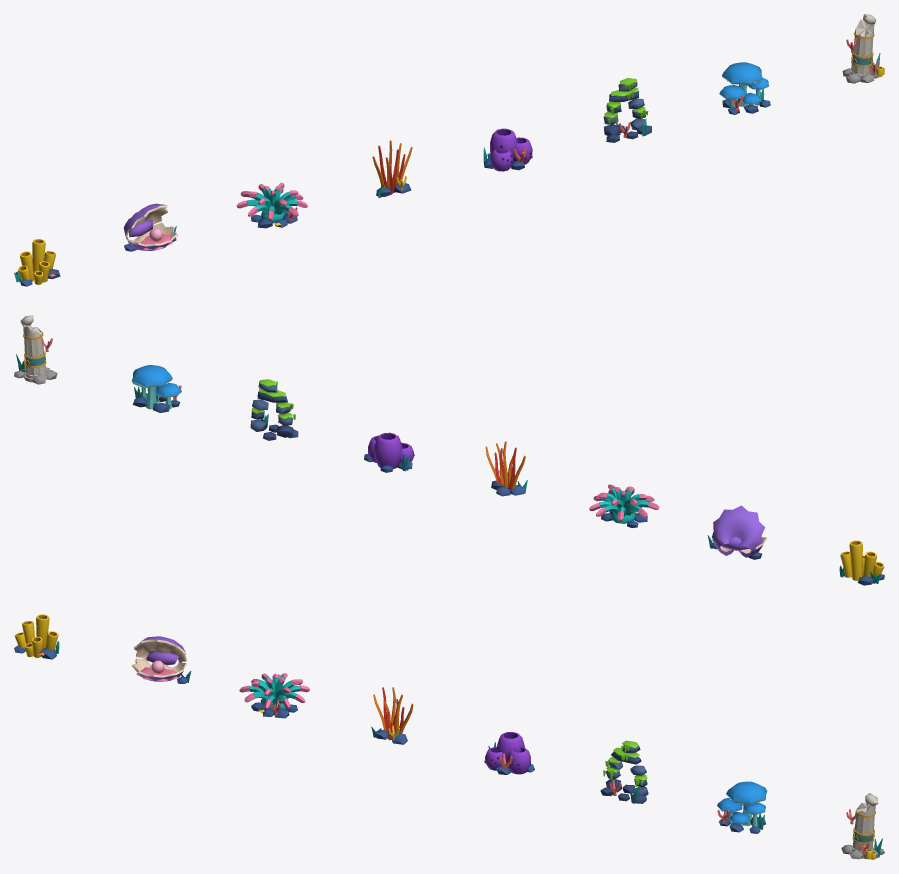
Rendered from MB_Kit_OpenSea_v1.fbx.
The picture shows the model from 3 angles, top to bottom: view 1: azimuth 30°, elevation 25°; view 2: azimuth 150°, elevation 25°; view 3: azimuth 330°, elevation 25°; orthographic projection.
Visible parts, largest first — view 1: Anemone, GlowShroom, MossRock, GiantClam, RuinColumn, BarrelSponge, TubeSponge, WhipCoral; view 2: GiantClam, Anemone, MossRock, GlowShroom, RuinColumn, BarrelSponge, TubeSponge, WhipCoral; view 3: GiantClam, GlowShroom, Anemone, MossRock, RuinColumn, BarrelSponge, TubeSponge, WhipCoral.
Boxes of the visible parts, x1,y1,x2,y2 form: Anemone: (236, 182, 307, 228); GlowShroom: (719, 62, 770, 114); MossRock: (603, 78, 651, 142); GiantClam: (123, 203, 177, 251); RuinColumn: (842, 14, 884, 83); BarrelSponge: (483, 128, 532, 171); TubeSponge: (14, 239, 60, 286); WhipCoral: (372, 140, 412, 197); GiantClam: (707, 505, 766, 559); Anemone: (589, 484, 659, 527); MossRock: (250, 379, 298, 440); GlowShroom: (131, 365, 181, 412); RuinColumn: (14, 315, 57, 384); BarrelSponge: (364, 432, 414, 472); TubeSponge: (839, 540, 884, 585); WhipCoral: (485, 441, 527, 496); GiantClam: (132, 636, 191, 683); GlowShroom: (717, 781, 767, 833); Anemone: (239, 673, 309, 718); MossRock: (600, 740, 648, 803); RuinColumn: (841, 793, 884, 859); BarrelSponge: (484, 732, 534, 774); TubeSponge: (14, 614, 59, 659); WhipCoral: (371, 687, 413, 744).
Bounding box in the file's own units: 29467 × 1989 × 2109.
Materials: 1 (1 with a texture image).
